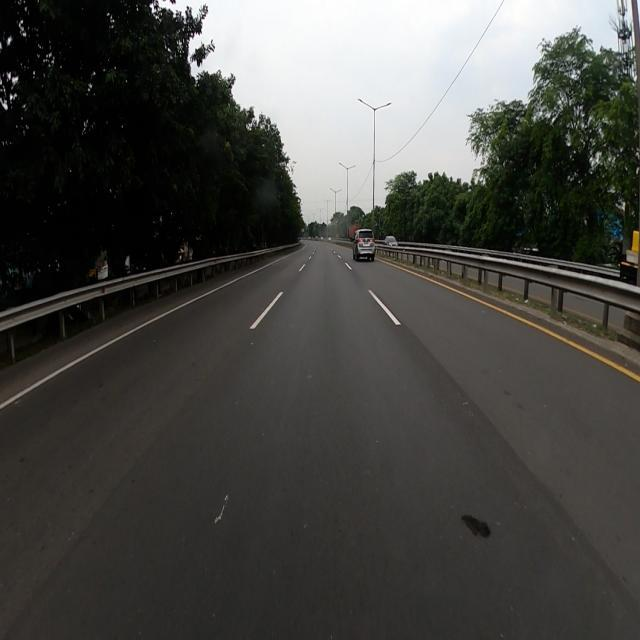Buraco: (458, 513, 494, 540)
